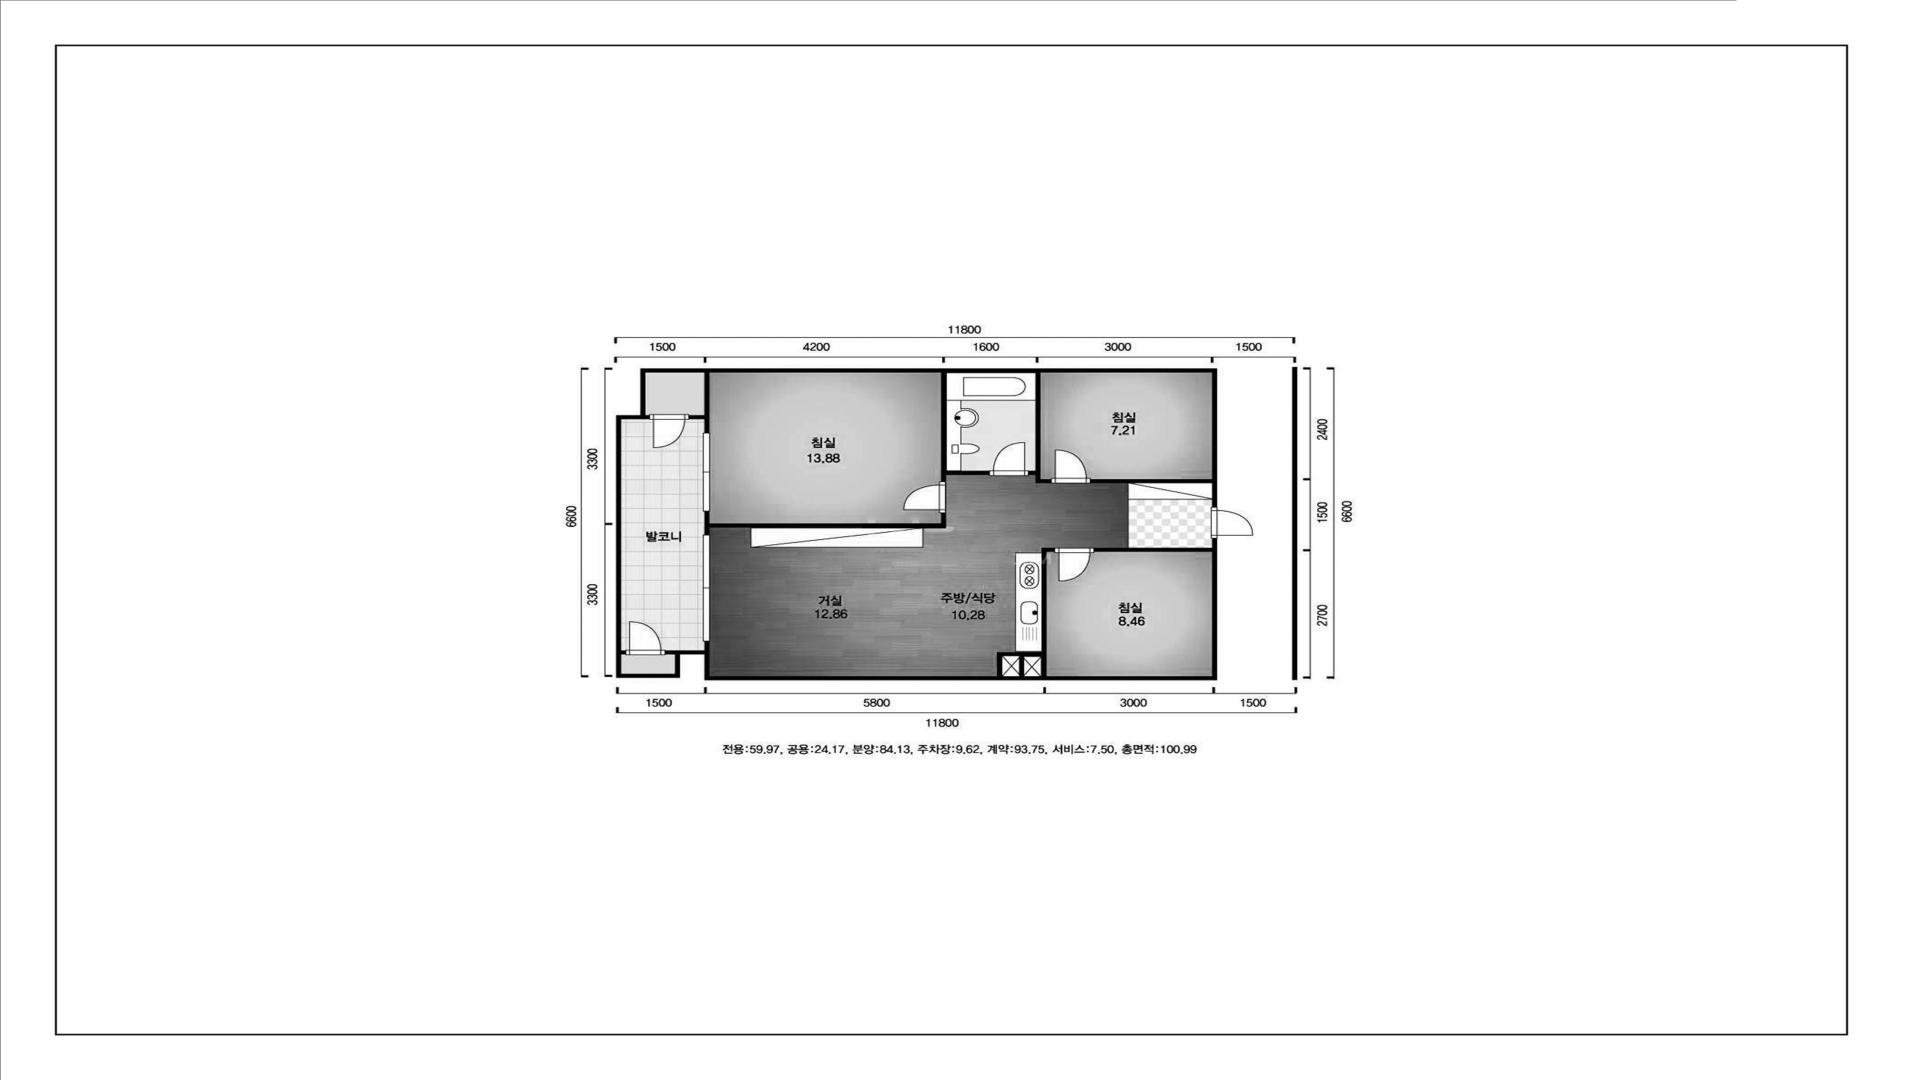door: (1211, 506, 1254, 539), (902, 481, 945, 513), (649, 414, 688, 448), (626, 621, 666, 655), (989, 442, 1029, 476), (1051, 450, 1091, 484), (1055, 547, 1095, 582)
wall: (641, 368, 1217, 373), (704, 676, 1212, 680), (1042, 547, 1054, 676), (616, 415, 621, 678), (709, 524, 945, 529), (1212, 539, 1217, 680), (1212, 372, 1217, 506), (1091, 479, 1212, 484), (1095, 547, 1212, 553), (1035, 373, 1040, 484), (942, 372, 947, 481), (704, 372, 709, 433), (640, 373, 646, 419), (997, 651, 1040, 657), (621, 674, 675, 678), (947, 471, 989, 475), (675, 650, 709, 654), (675, 654, 680, 678), (704, 654, 709, 676), (704, 512, 709, 534), (997, 657, 1002, 676), (1019, 657, 1025, 676), (621, 415, 640, 419), (940, 513, 947, 524), (688, 415, 704, 419), (1040, 479, 1051, 484), (704, 641, 709, 650), (666, 650, 675, 654), (1029, 471, 1035, 476), (621, 650, 626, 655), (646, 415, 650, 419)
window: (703, 534, 711, 641), (703, 433, 711, 512)
